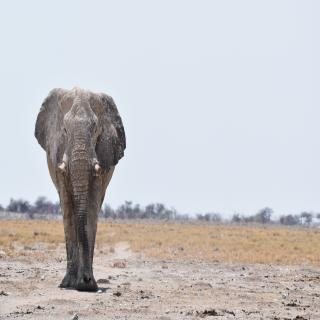Elephant: (32, 84, 128, 294)
